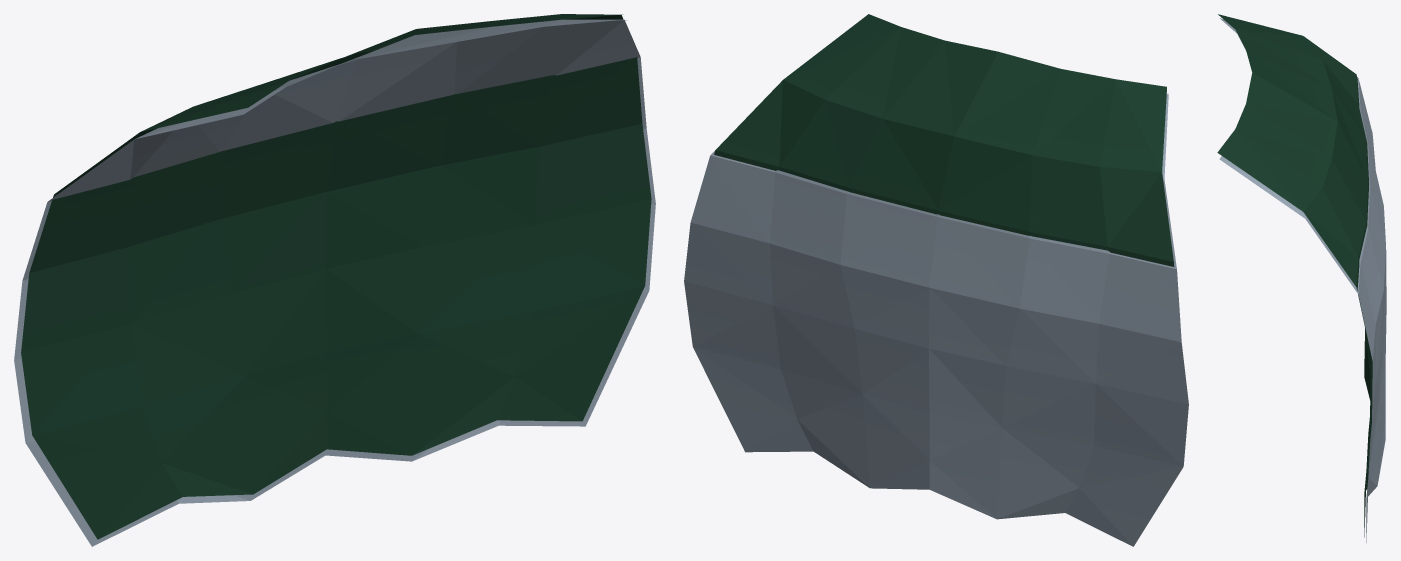
File: rohan_capa_2.glb
The picture shows the model from 3 angles, left to right: view 1: azimuth 30°, elevation 25°; view 2: azimuth 150°, elevation 25°; view 3: azimuth 270°, elevation 25°; orthographic projection. The views are drawn at different scales.
Visible parts, largest first — view 1: rohan_capa_2; view 2: rohan_capa_2; view 3: rohan_capa_2.
Boxes of the visible parts, <box> form: rohan_capa_2: <box>14,14,655,546</box>; rohan_capa_2: <box>684,14,1188,546</box>; rohan_capa_2: <box>1217,14,1386,542</box>.
Bounding box in the file's own units: 1.14 × 0.8685 × 0.3466.
Materials: 1 (1 with a texture image).
